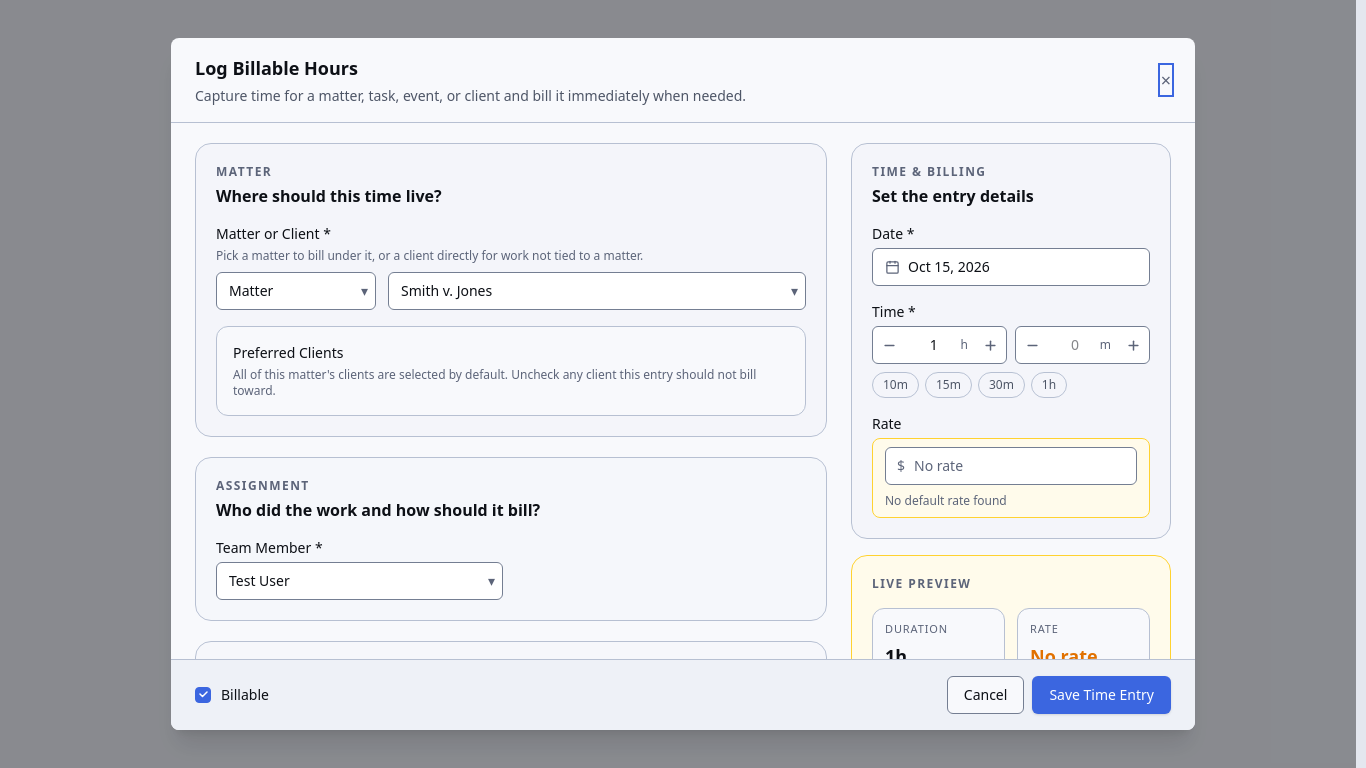
TimeEntryModal › team member choices › offers every matter member with billing.manageOthersTimeEntries
This screenshot has width=1366, height=768.
Expected: the text "Smith v. Jones" is shown, left=401, top=281, right=492, bottom=301
What coordinates should you click on to do the following:
click the button "Test User ▾"
I would click on:
 (259, 581)
Its box is left=216, top=562, right=503, bottom=600.
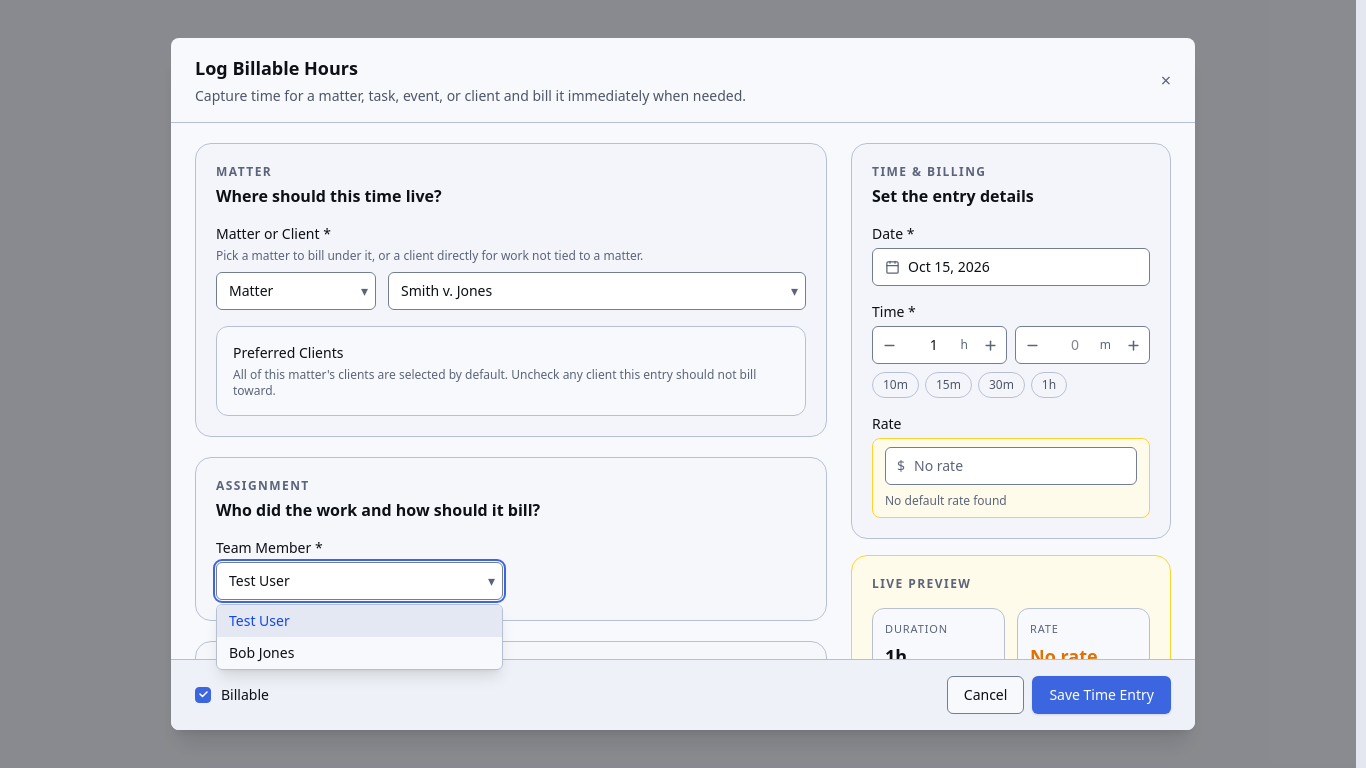
Result: the option "Bob Jones" is shown at left=229, top=643, right=294, bottom=662
